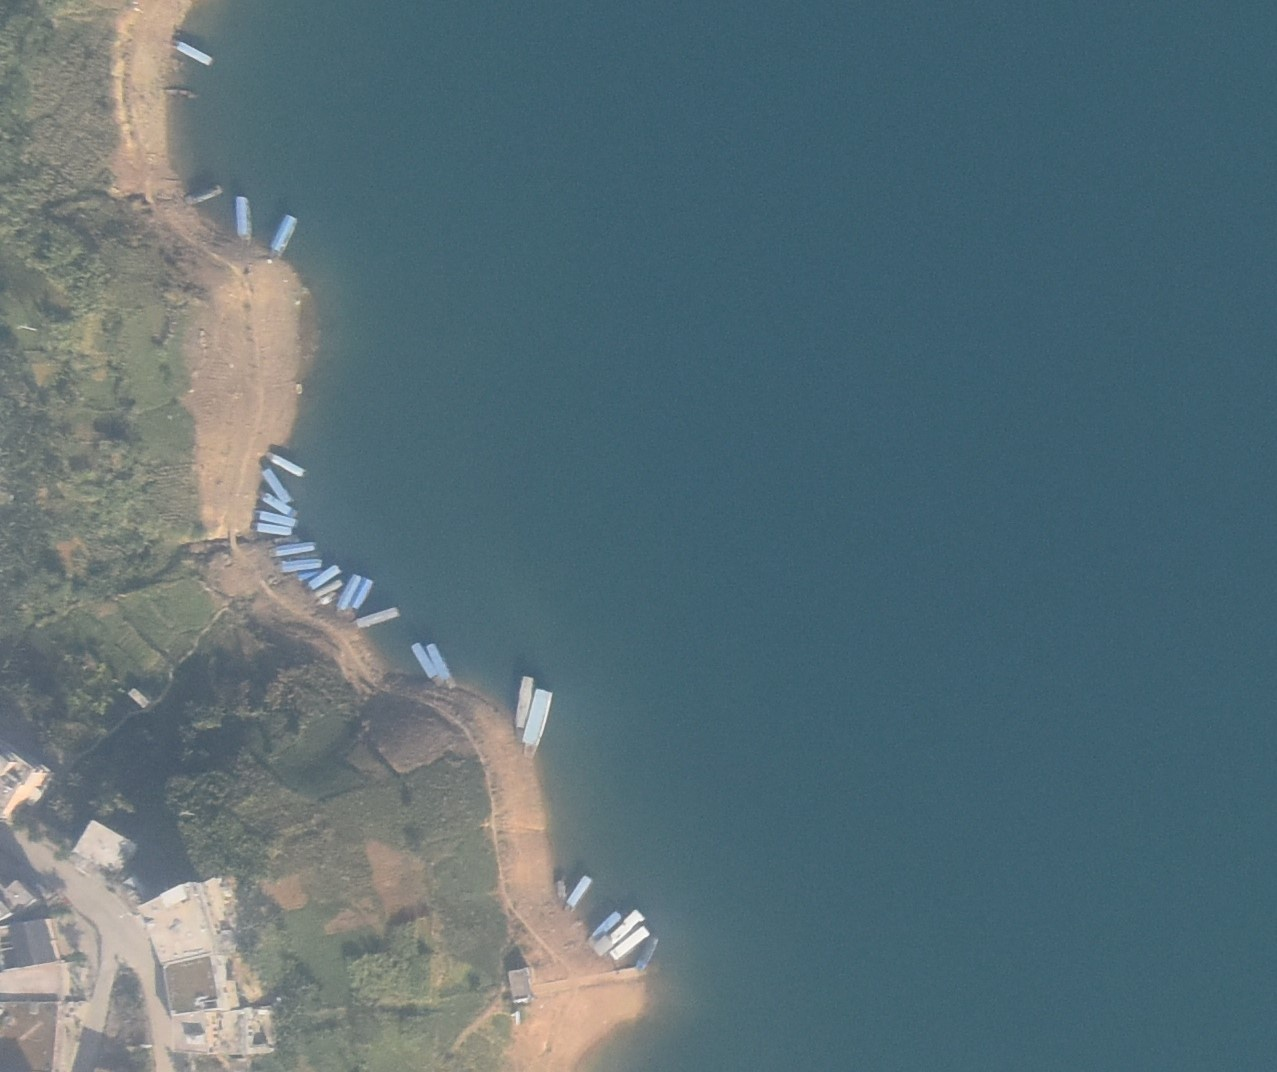building: (1, 965, 76, 1072), (132, 880, 213, 966), (174, 1011, 278, 1057), (1, 737, 53, 829), (74, 819, 139, 878), (153, 959, 225, 1011), (1, 919, 62, 963), (1, 880, 54, 925), (508, 968, 531, 1002), (126, 687, 152, 710)
ship: (521, 686, 553, 759), (412, 641, 444, 690), (603, 909, 644, 947), (609, 925, 651, 959), (270, 213, 299, 262), (427, 641, 454, 692), (260, 466, 295, 504), (589, 910, 623, 946), (174, 36, 216, 64), (565, 876, 593, 915), (516, 674, 534, 732), (354, 606, 398, 628), (263, 452, 304, 475), (338, 574, 359, 614), (261, 491, 296, 515), (635, 935, 657, 971), (181, 185, 224, 203), (266, 541, 315, 556), (309, 564, 339, 588), (236, 194, 252, 239), (350, 577, 371, 611), (257, 511, 297, 527), (278, 559, 320, 573), (251, 522, 292, 536), (553, 877, 568, 908), (314, 580, 341, 596), (163, 87, 195, 100), (296, 568, 318, 582), (316, 594, 341, 605)
